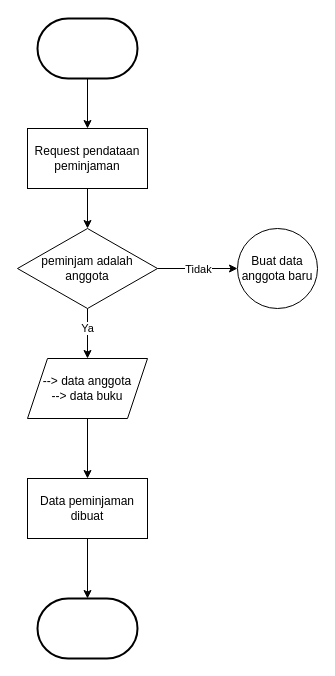
Image size: 335x676. Some labels were removed from this diagram. Each missing label, with the box of its shape:
Mulai: (36, 17, 138, 79)
Selesai: (36, 597, 138, 659)
